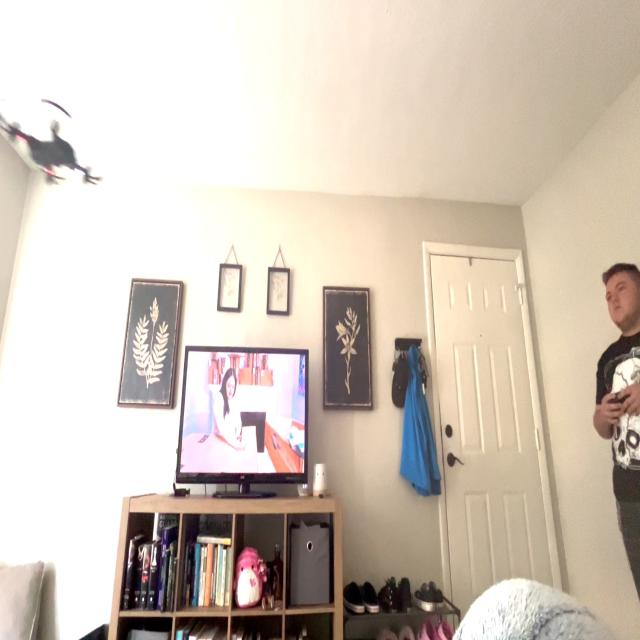drone: (0, 80, 105, 199)
